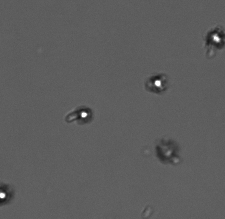Dead Cell: (156, 138, 177, 162)
Living Cell: (206, 28, 225, 49), (148, 72, 166, 92), (73, 105, 92, 123), (1, 185, 11, 204)
